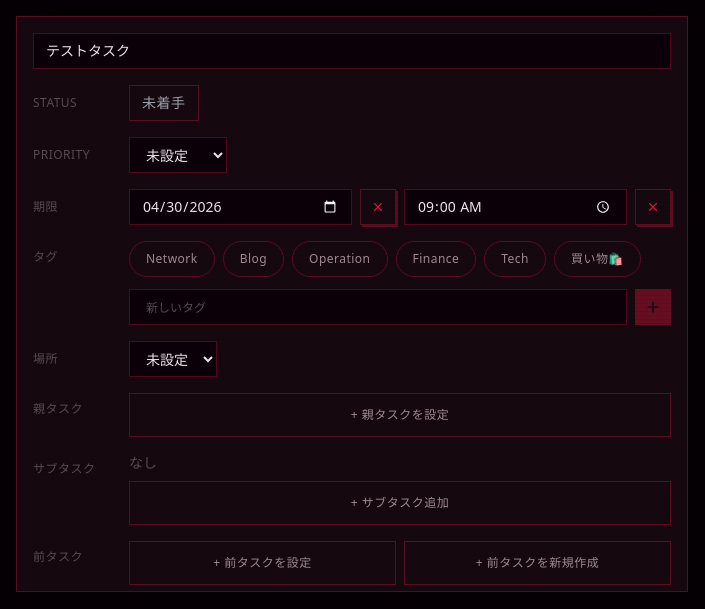
Test: TaskDetail フィールド変更 › 日付クリアボタンで日付・時刻の両方が消えて due は null
This screenshot has width=705, height=609.
Click the button named "日付をクリア" at (378,207), box [360,189,396,225]
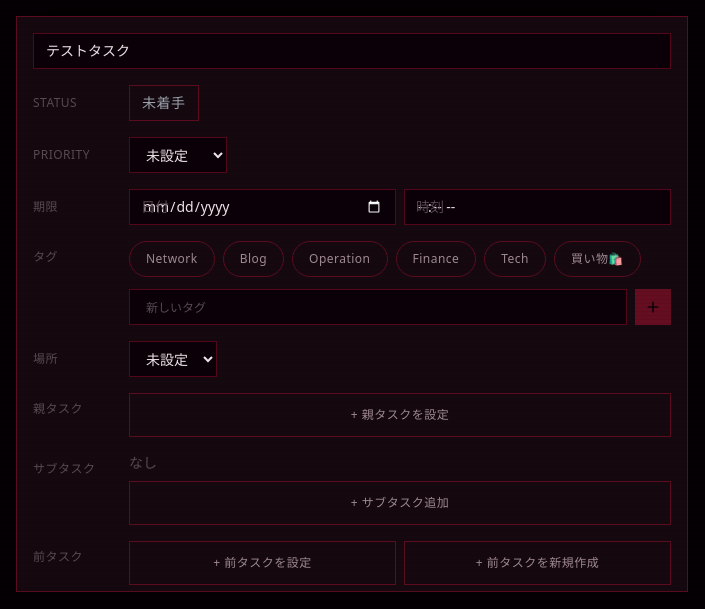
Result: the button "日付をクリア" is gone
Result: the button "時刻をクリア" is gone
